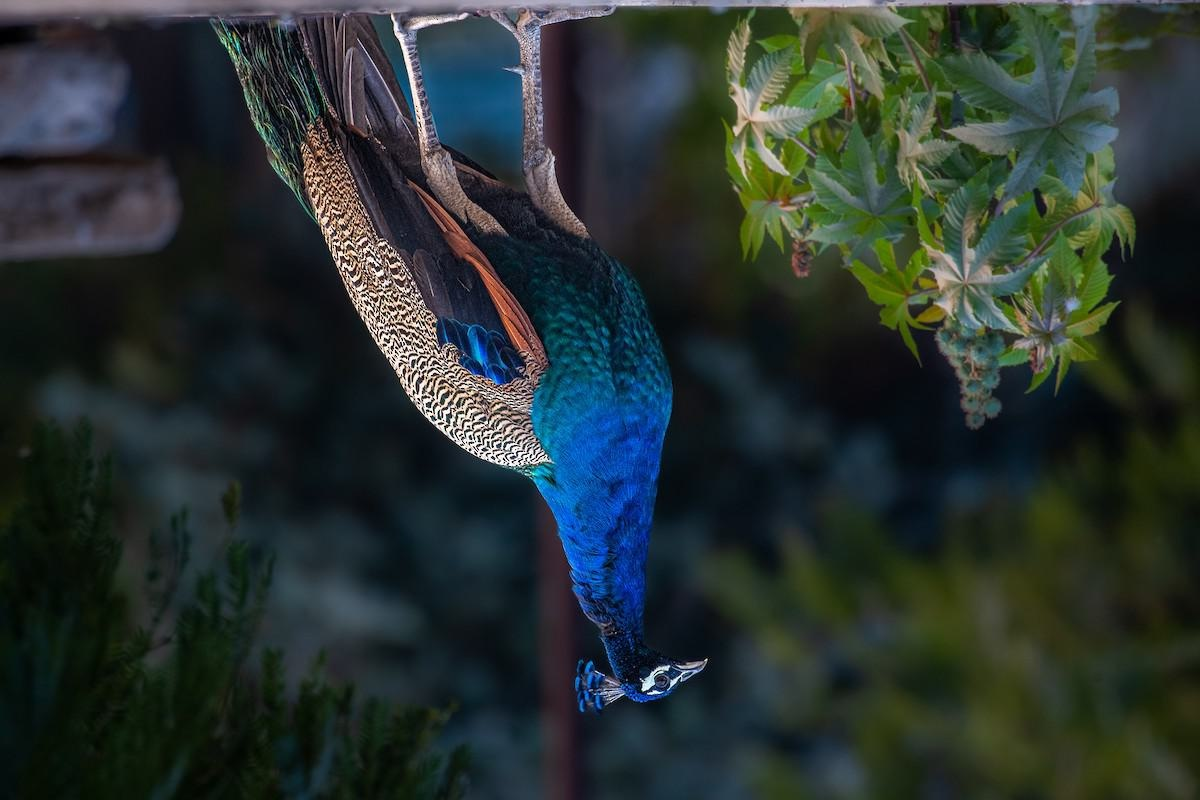peacock: (188, 1, 744, 747)
